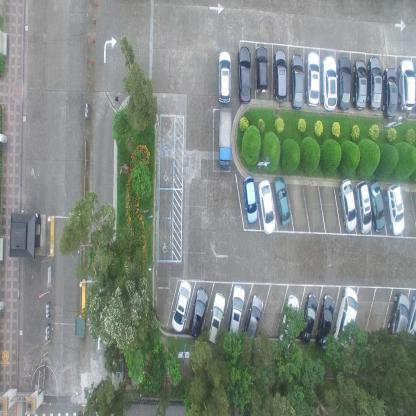car: (333, 286, 357, 348), (226, 283, 245, 346), (278, 293, 300, 347), (314, 292, 335, 348), (171, 277, 192, 332), (396, 58, 416, 115), (242, 293, 264, 344), (188, 286, 208, 338), (258, 179, 276, 235), (338, 177, 356, 233), (320, 56, 338, 112), (354, 180, 372, 235), (300, 292, 319, 344), (368, 179, 386, 232), (386, 184, 404, 234), (366, 54, 382, 110), (274, 176, 292, 225), (218, 107, 232, 170), (237, 46, 252, 104), (208, 292, 225, 343), (305, 51, 320, 108), (289, 52, 304, 109), (383, 66, 398, 119), (352, 58, 367, 111), (217, 51, 232, 104), (273, 48, 287, 103), (242, 176, 258, 224), (338, 55, 351, 111), (255, 45, 268, 94)
